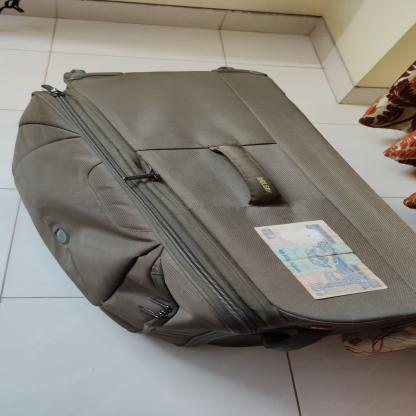Old100Back: (252, 219, 388, 300)
